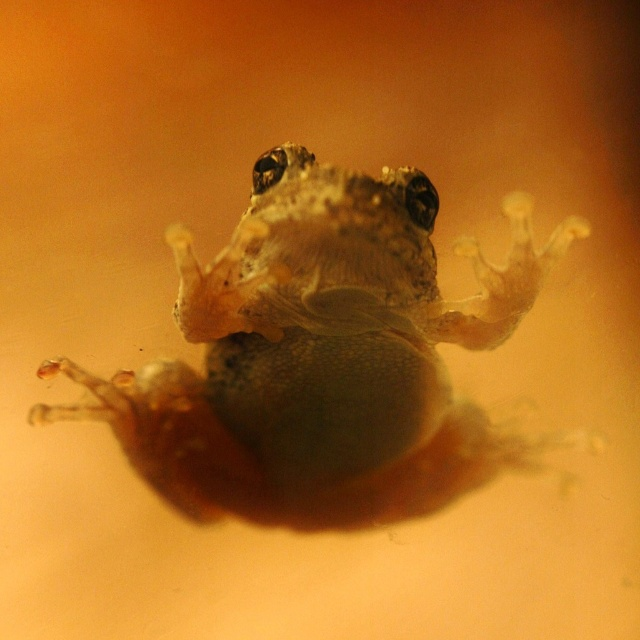Frog: (23, 143, 608, 532)
